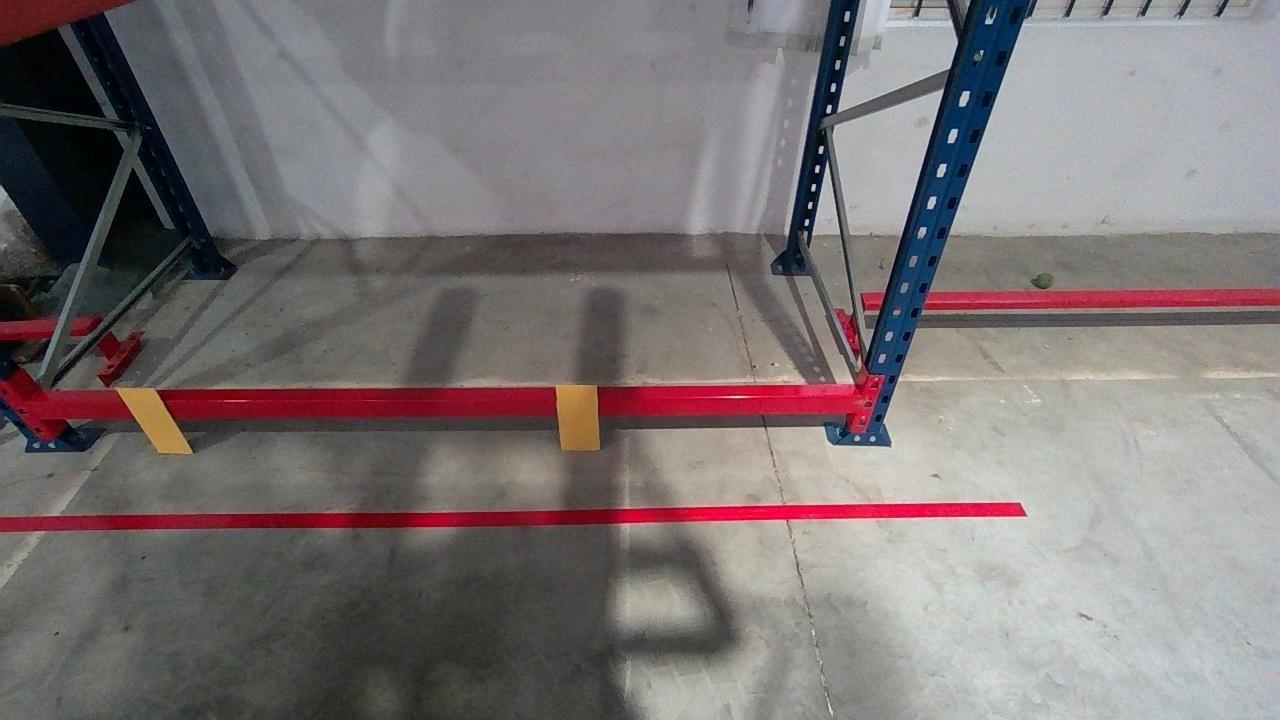h_rack: (8, 395, 865, 421)
orange_strip: (112, 389, 195, 452), (552, 384, 600, 450)
red_line: (1, 502, 1028, 530)
